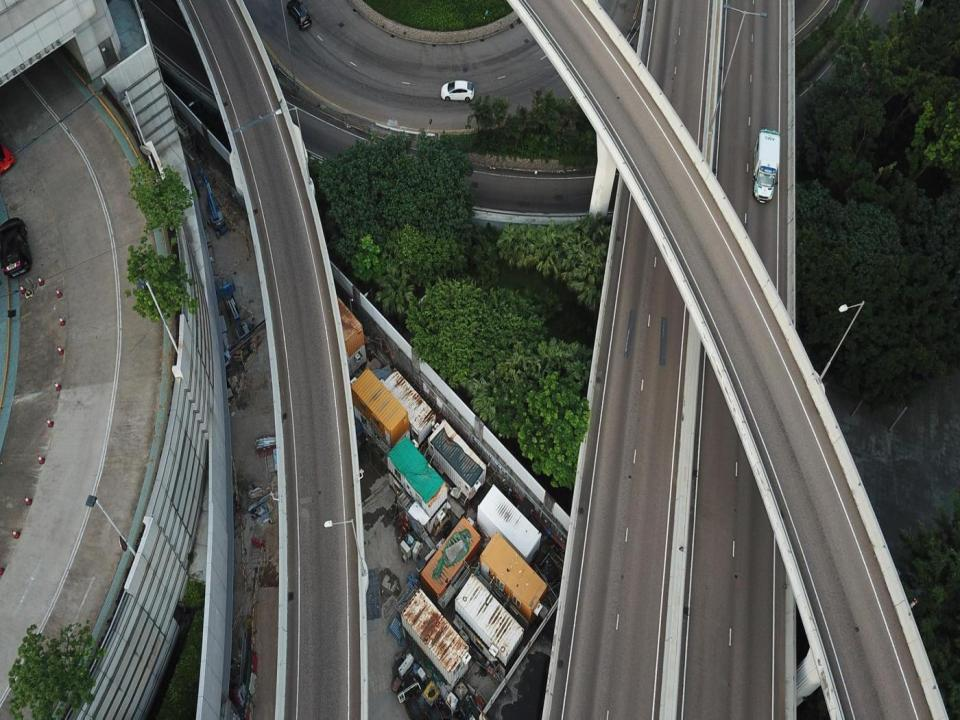car: (441, 80, 474, 102)
truck: (753, 130, 780, 203)
van: (0, 218, 32, 278), (287, 1, 311, 30)
